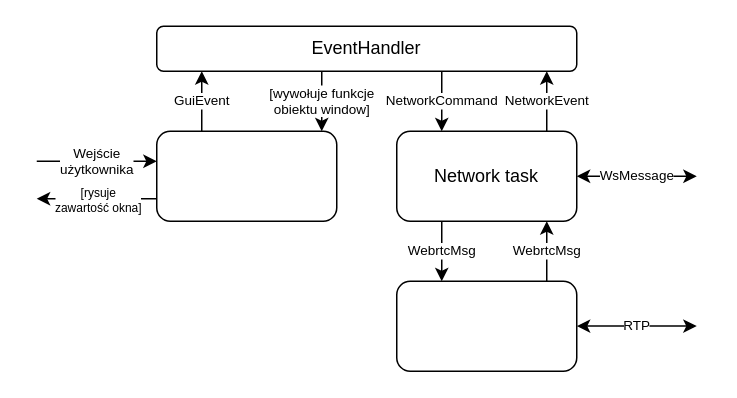
Image size: 737x398. Some labels were removed from this diagram. Here are the shapes that lost their labels. From the top down, the box of each, then its label:
(155, 130, 337, 221): GUI task
(395, 280, 577, 371): GStreamer task (podczas rozmowy)
